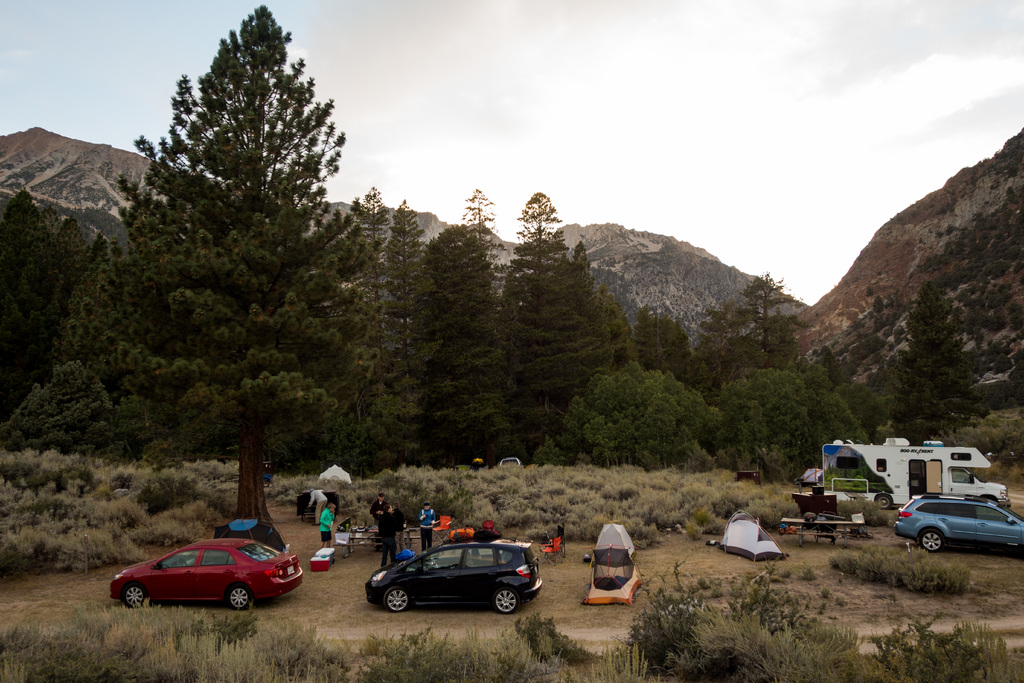Car: (112, 535, 300, 609), (366, 542, 542, 613), (896, 496, 1023, 556)
